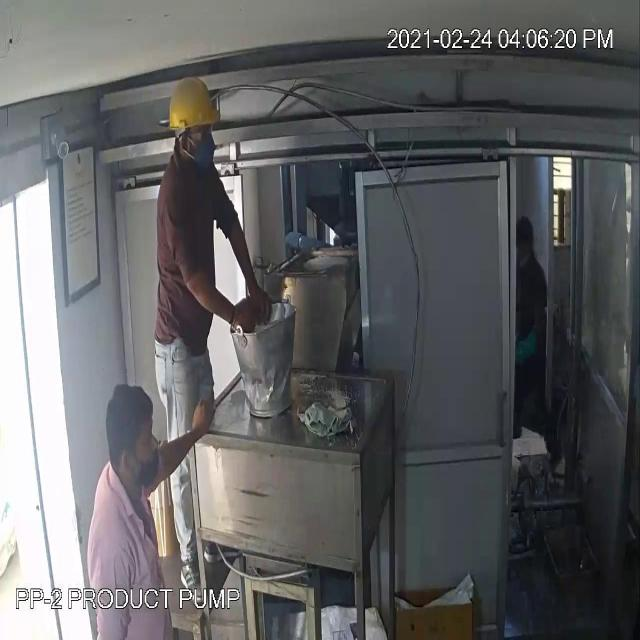helmet: (156, 68, 229, 142)
no-helmet: (103, 382, 165, 462)
